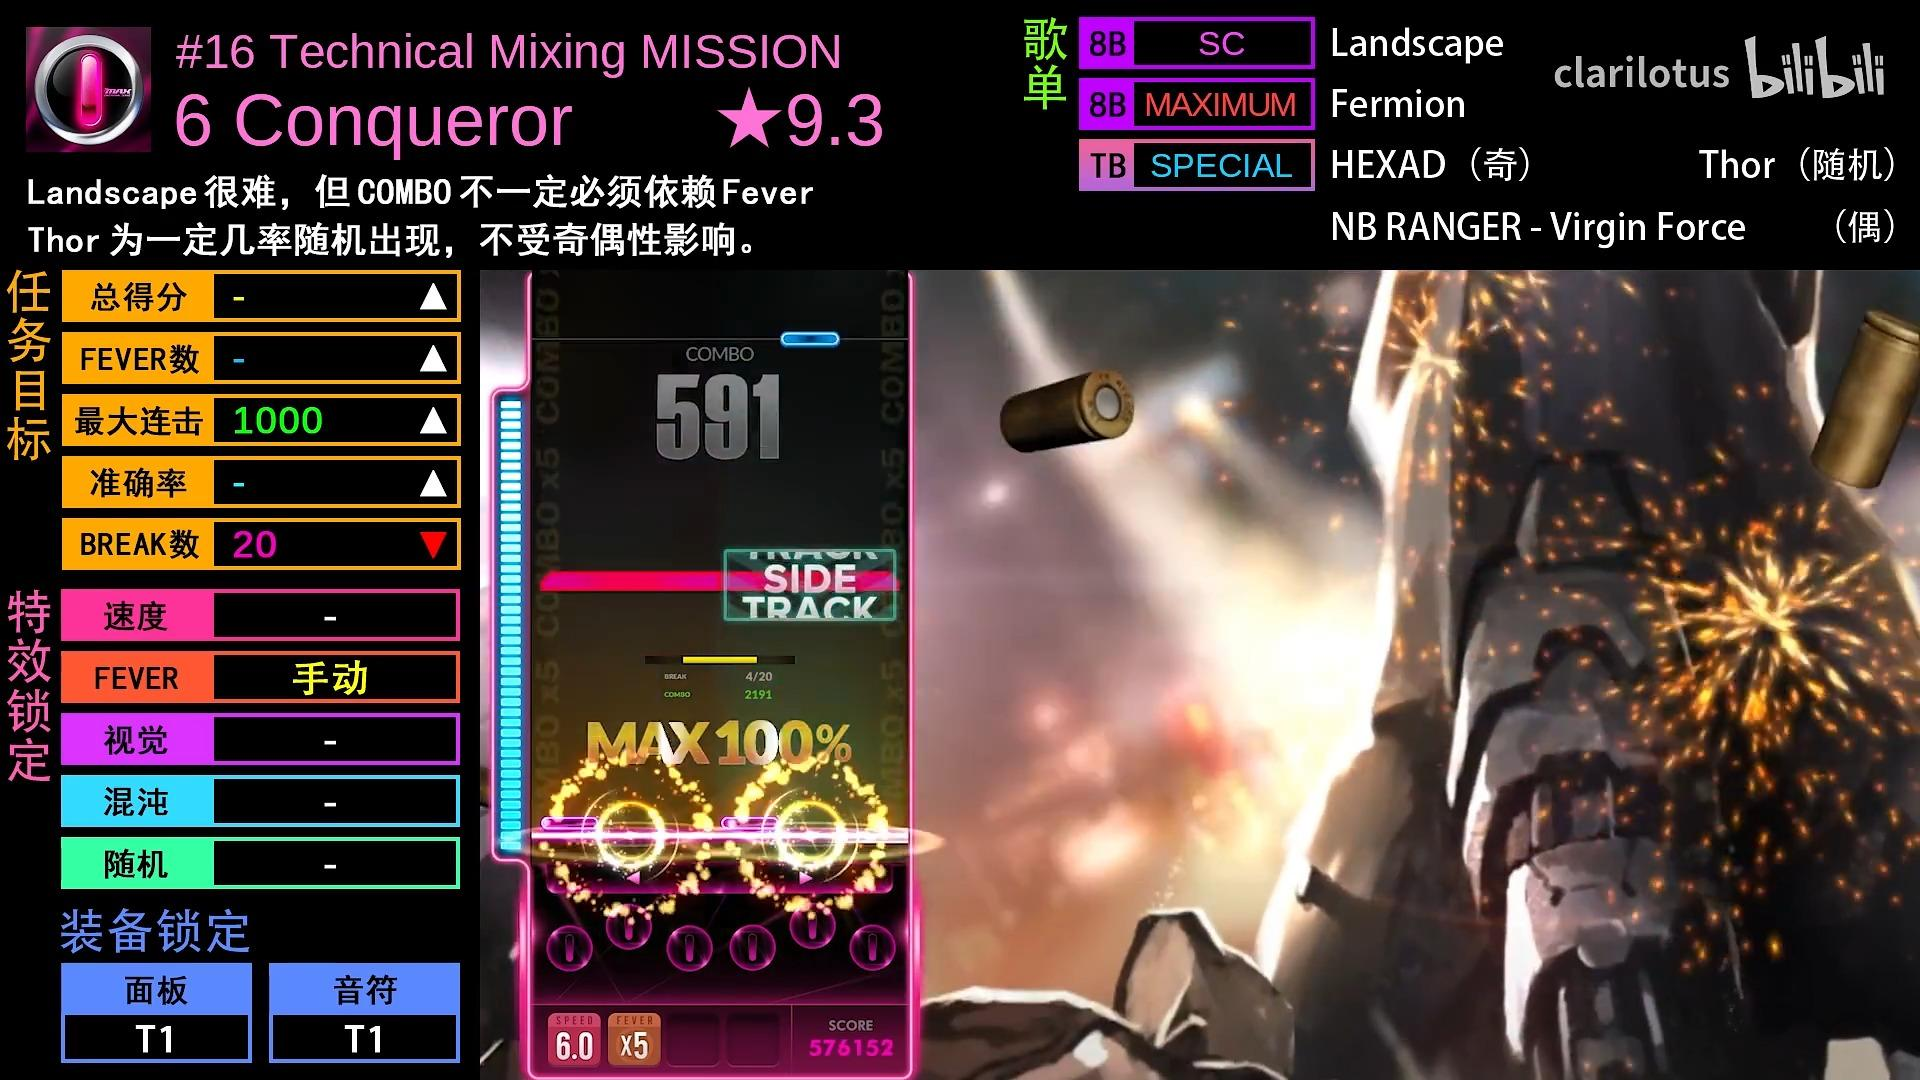note: (717, 815, 779, 832), (781, 332, 840, 347), (541, 816, 600, 831)
xnote: (538, 572, 724, 591), (724, 571, 901, 589)
